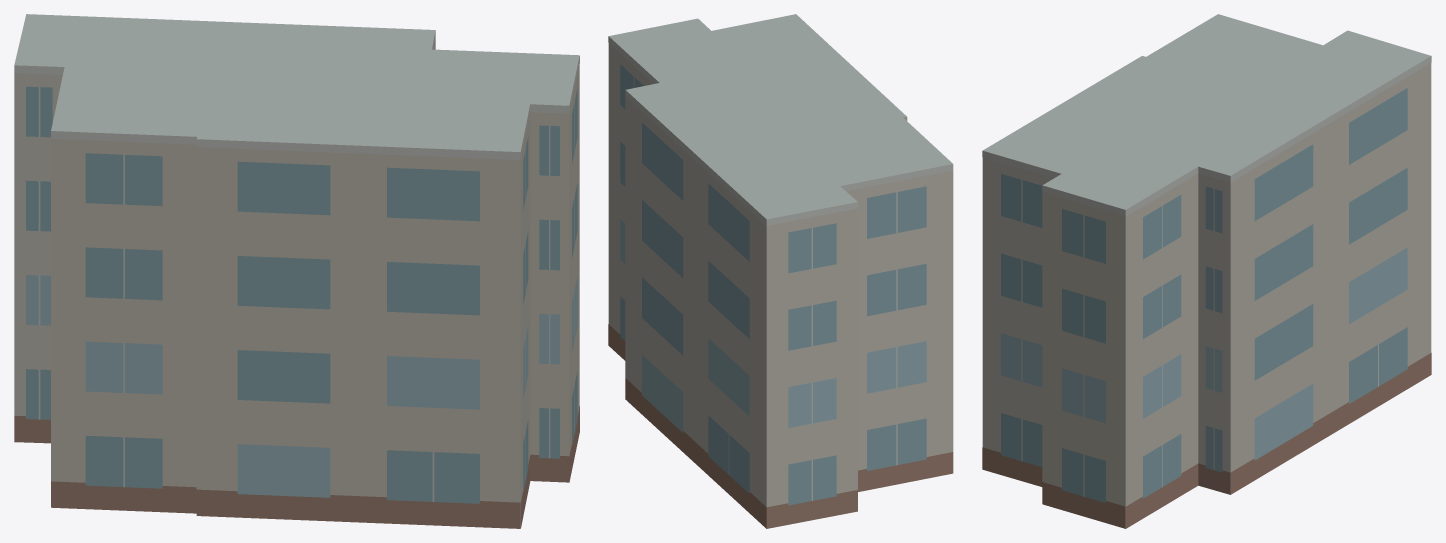
Rendered from survey-upis-32817209.glb.
3 renders of one model, left to right at view 1: azimuth 30°, elevation 25°; view 2: azimuth 150°, elevation 25°; view 3: azimuth 270°, elevation 25°, orthographic. The views are drawn at different scales.
Parts seen in each view (by area): view 1: survey-upis-32817209.tmp; view 2: survey-upis-32817209.tmp; view 3: survey-upis-32817209.tmp.
Boxes of the visible parts, bbox=[...] form: survey-upis-32817209.tmp: bbox=[14, 14, 579, 528]; survey-upis-32817209.tmp: bbox=[608, 14, 953, 528]; survey-upis-32817209.tmp: bbox=[982, 14, 1431, 528].
Bounding box in the file's own units: 15.49 × 11.75 × 15.
